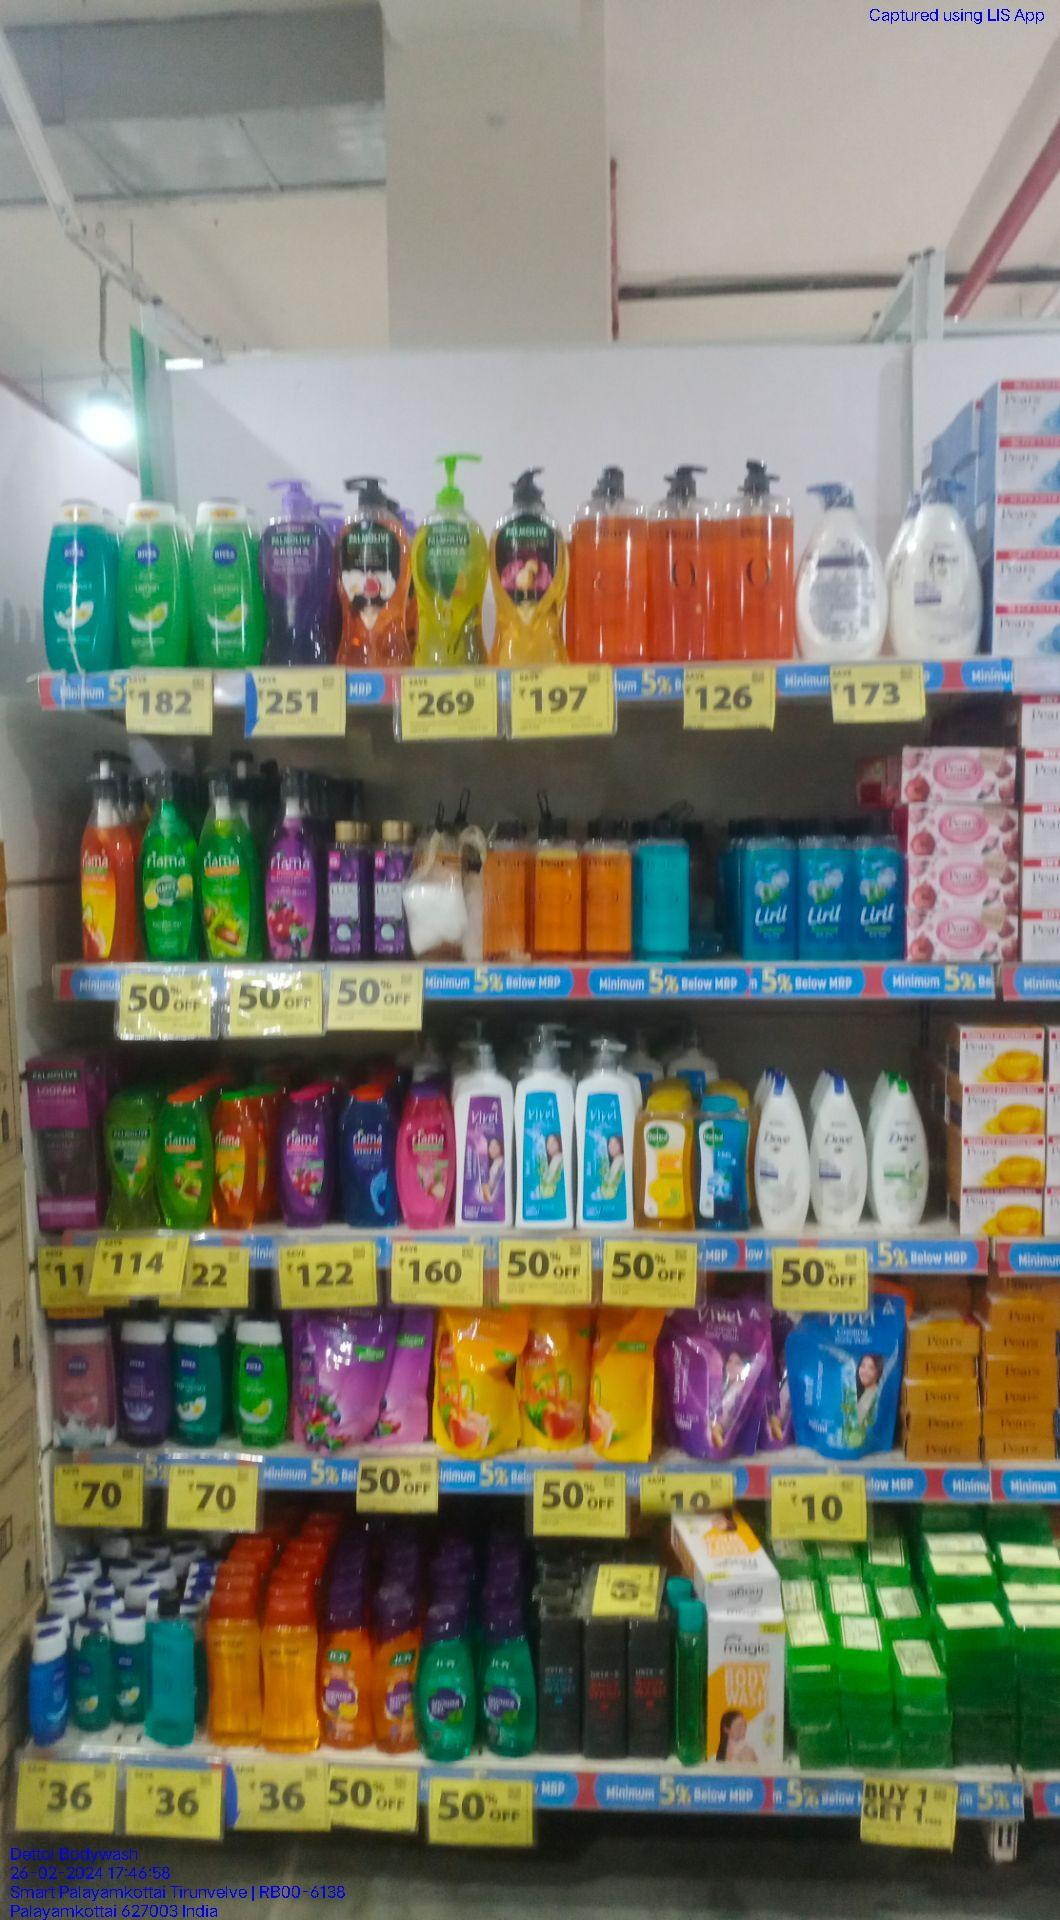Dettol_Bodywash_Cool: (700, 1099, 748, 1232)
Dettol_Bodywash_Refresh: (637, 1092, 694, 1232)
Dove_Deep_Moisture_Body_Wash_250ML: (753, 1086, 811, 1233), (813, 1076, 865, 1227)
Dove_Refreshing_Body_Wash_250ML: (872, 1073, 929, 1227)
Fiama_Shower_Gel_Lemongrass_and_Jojoba_250ML: (159, 1095, 211, 1228)
Fiama_Shower_Gel_Patchouli_and_Macadamia_250ML: (394, 1086, 452, 1228)
Fiama_Shower_Gel_Peach_and_Avocado_250ML: (213, 1094, 257, 1231)
Get_Real_Shower_Gel_Moisturising_Glycerin_300ML: (262, 1598, 320, 1753), (208, 1595, 261, 1746)
Joy_Shower_Gel_Mandarin_and_Lemongrass_250ML: (322, 1616, 373, 1750), (376, 1611, 419, 1753)
Joy_Shower_Gel_Mint_and_Eucalyptus_250ML: (478, 1608, 537, 1754), (423, 1608, 478, 1759)
Liril_Cooling_Mint_Body_Wash_250ML: (851, 811, 902, 962), (799, 816, 850, 961), (745, 821, 796, 961)
Lux_Black_Orchid_Scent_and_Juniper_Oil_Body_Wash_245ML: (319, 820, 371, 962), (373, 816, 413, 957)
Palmolive_Aroma_Morning_Tonic_Shower_Gel_250ML: (104, 1095, 155, 1231)
